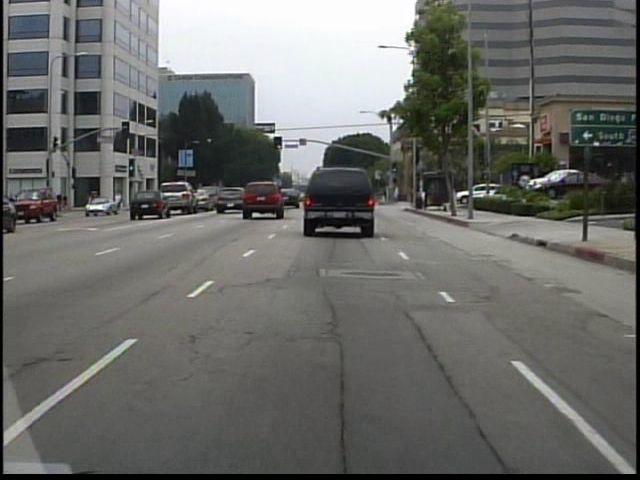person: (114, 188, 127, 212), (393, 183, 405, 205)
